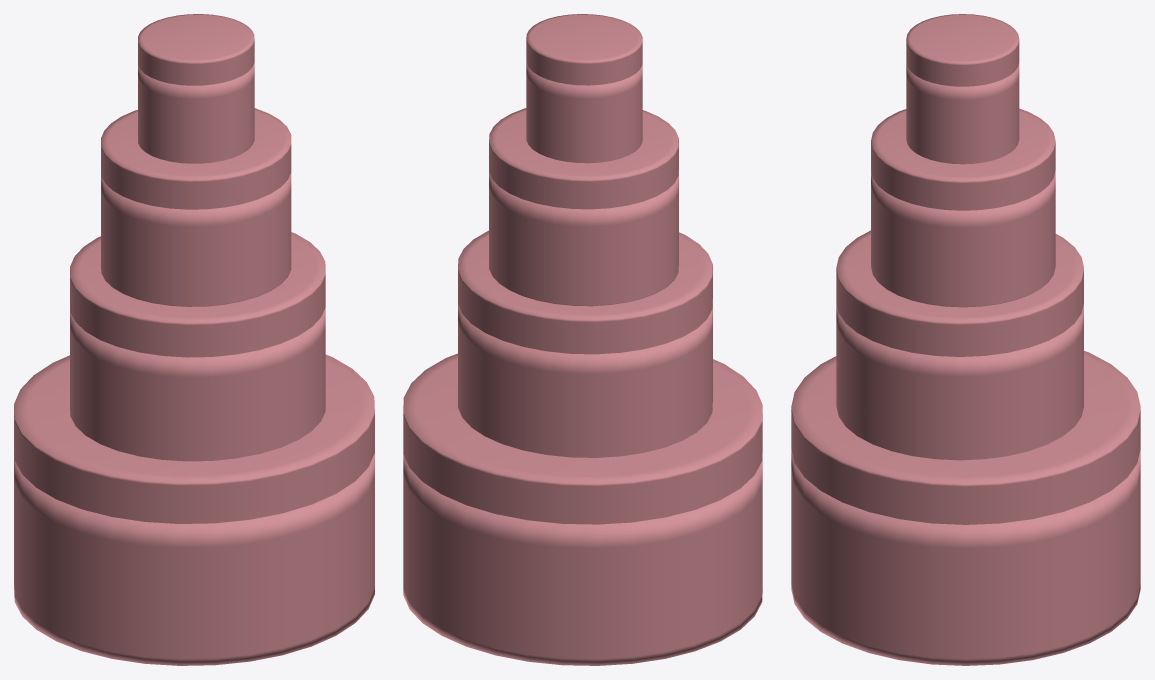
The model's file is 4-tier-blush-none-none.glb.
The picture shows the model from 3 angles, left to right: view 1: azimuth 30°, elevation 25°; view 2: azimuth 150°, elevation 25°; view 3: azimuth 270°, elevation 25°; orthographic projection.
Visible parts, largest first — view 1: 3.001, 3, 2, 1; view 2: 3.001, 3, 2, 1; view 3: 3.001, 3, 2, 1.
Boxes of the visible parts, left/top/right/bottom form: 3.001: left=14, top=354, right=374, bottom=665; 3: left=70, top=232, right=325, bottom=461; 2: left=101, top=108, right=291, bottom=306; 1: left=138, top=14, right=254, bottom=163; 3.001: left=403, top=353, right=762, bottom=665; 3: left=458, top=230, right=712, bottom=457; 2: left=489, top=108, right=678, bottom=306; 1: left=526, top=14, right=642, bottom=163; 3.001: left=791, top=351, right=1140, bottom=665; 3: left=836, top=230, right=1083, bottom=460; 2: left=871, top=108, right=1055, bottom=307; 1: left=906, top=14, right=1019, bottom=164.
Bounding box in the file's own units: 4.43 × 7.43 × 4.27.
